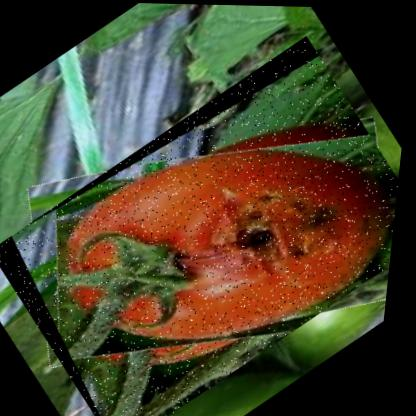tomato_rotten: (0, 28, 413, 415)
